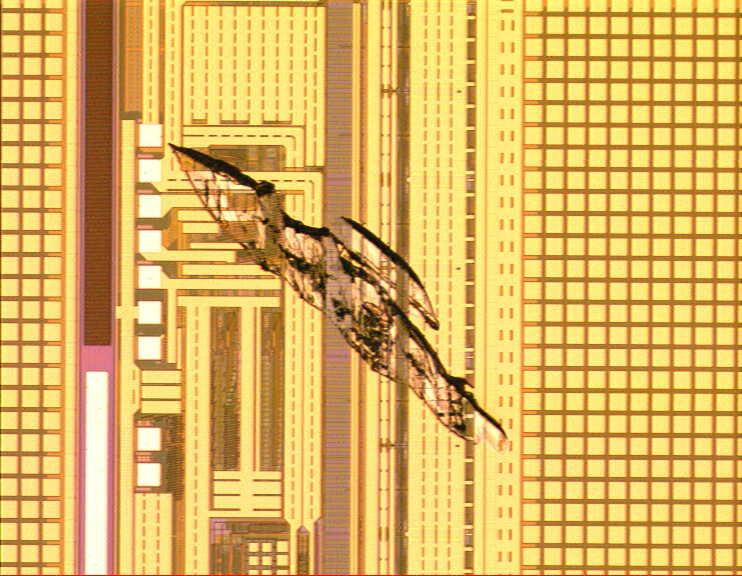SCRATCH: (163, 138, 525, 459)
